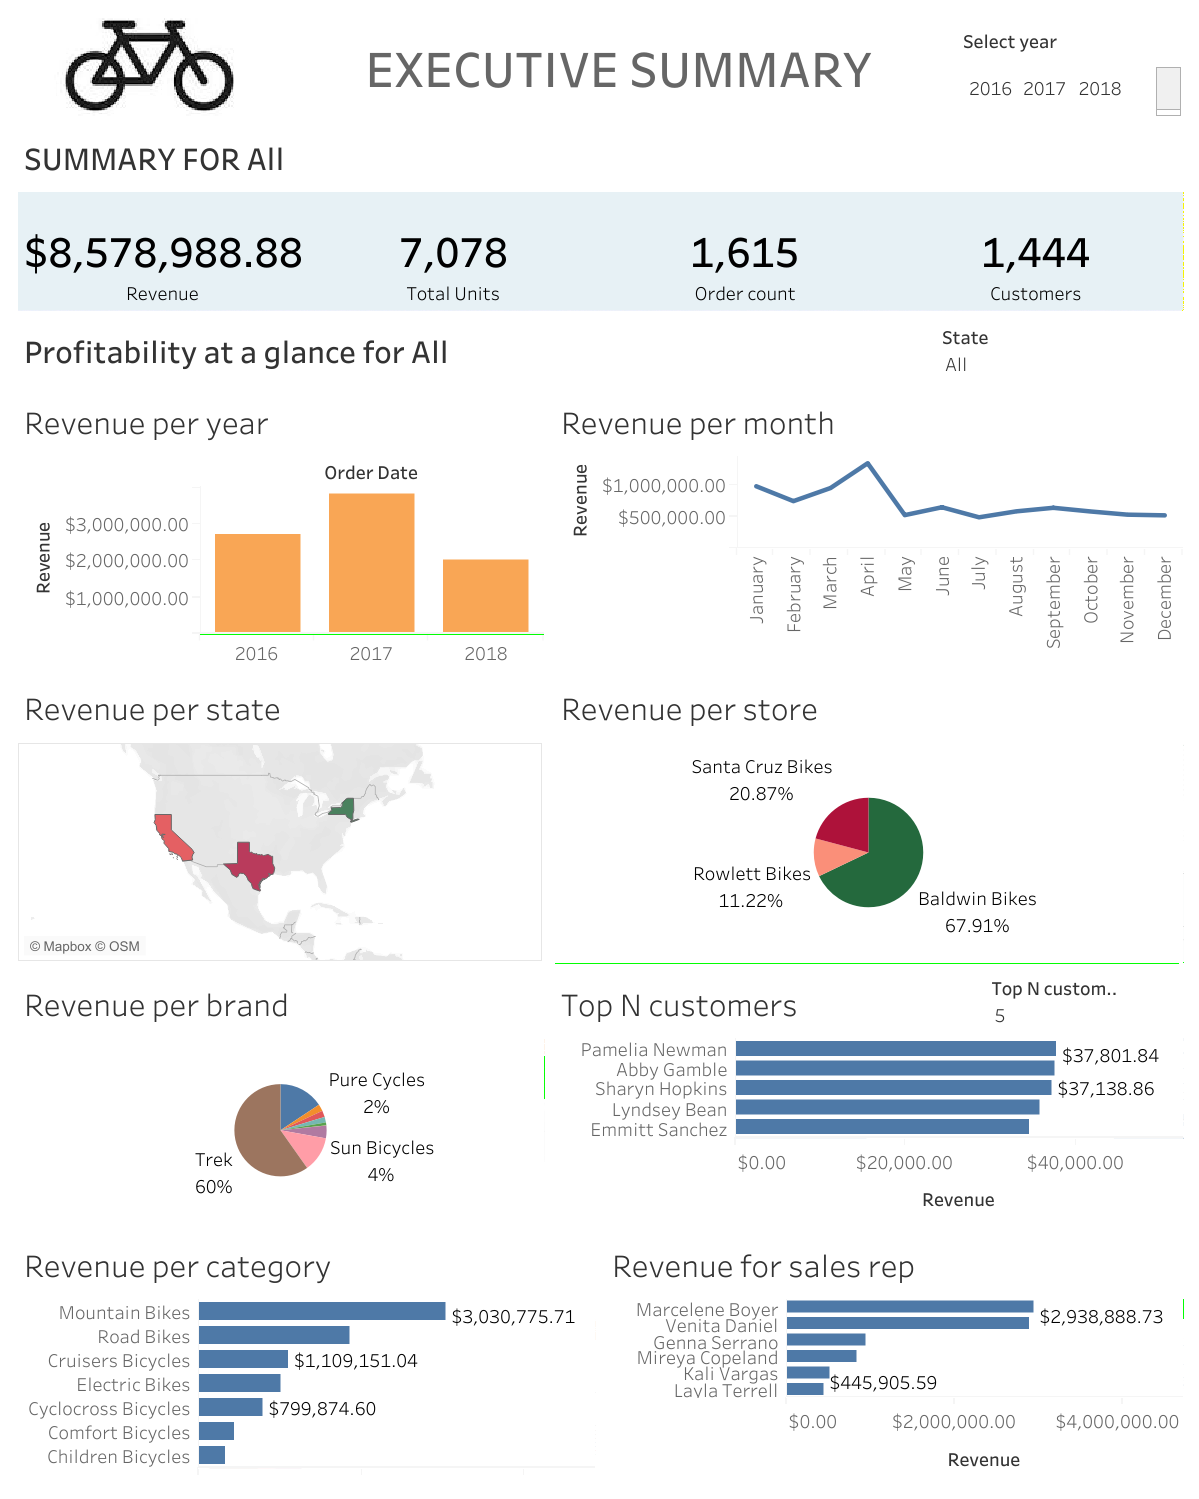

This screenshot's page, from the dashboard's own definition file:
{"tool":"tableau","page":{"name":"Bike sales dashboard","canvas":[800,1000],"ordinal":0},"visuals":[{"type":"image","param":"Image/BIKE.jpeg","box":[8,8,183,73]},{"type":"text","box":[191,8,443,73]},{"type":"worksheet","title":"Year","mark":"Automatic","box":[634,8,158,73]},{"type":"worksheet","title":"Banner","mark":"Automatic","box":[8,81,784,129]},{"type":"worksheet","title":"Title","mark":"Automatic","box":[8,210,616,47]},{"type":"filter","title":"Revenue per state","param":"[federated.0v113cb1su682p11htuc80nd81jh].[none:state:nk]","box":[624,210,168,47]},{"type":"worksheet","title":"Revenue per year","mark":"Bar","rows":["revenue"],"cols":["order_date"],"box":[8,257,358,191]},{"type":"worksheet","title":"Revenue per month","mark":"Automatic","rows":["revenue"],"cols":["order_date"],"box":[366,257,426,191]},{"type":"worksheet","title":"Revenue per state","mark":"Multipolygon","box":[8,448,358,197]},{"type":"worksheet","title":"Revenue per store","mark":"Pie","box":[366,448,426,197]},{"type":"worksheet","title":"Revenue per brand","mark":"Pie","box":[8,645,358,173.5]},{"type":"worksheet","title":"Top N customers","mark":"Automatic","rows":["customers"],"cols":["revenue"],"box":[366,645,426,173.5]},{"type":"parameter","param":"[Parameters].[Revenue Parameter]","box":[661,648,86,45]},{"type":"worksheet","title":"Revenue per category","mark":"Automatic","rows":["category_name"],"cols":["revenue"],"box":[8,818.5,392,173.5]},{"type":"worksheet","title":"Revenue for sales rep","mark":"Automatic","rows":["sales_rep"],"cols":["revenue"],"box":[400,818.5,392,173.5]}]}

Visuals, with their boxes in screenshot pixels (x1, y1, x2, y2), scaled from the page's 800x1000 canvas onto the 1199x1499 screenshot:
image: left=12, top=12, right=286, bottom=121
text: left=286, top=12, right=950, bottom=121
"Year" worksheet: left=950, top=12, right=1187, bottom=121
"Banner" worksheet: left=12, top=121, right=1187, bottom=315
"Title" worksheet: left=12, top=315, right=935, bottom=385
"Revenue per state" filter: left=935, top=315, right=1187, bottom=385
"Revenue per year" worksheet (Bar marks): left=12, top=385, right=549, bottom=672
"Revenue per month" worksheet: left=549, top=385, right=1187, bottom=672
"Revenue per state" worksheet (Multipolygon marks): left=12, top=672, right=549, bottom=967
"Revenue per store" worksheet (Pie marks): left=549, top=672, right=1187, bottom=967
"Revenue per brand" worksheet (Pie marks): left=12, top=967, right=549, bottom=1227
"Top N customers" worksheet: left=549, top=967, right=1187, bottom=1227
parameter: left=991, top=971, right=1120, bottom=1039
"Revenue per category" worksheet: left=12, top=1227, right=600, bottom=1487
"Revenue for sales rep" worksheet: left=600, top=1227, right=1187, bottom=1487
